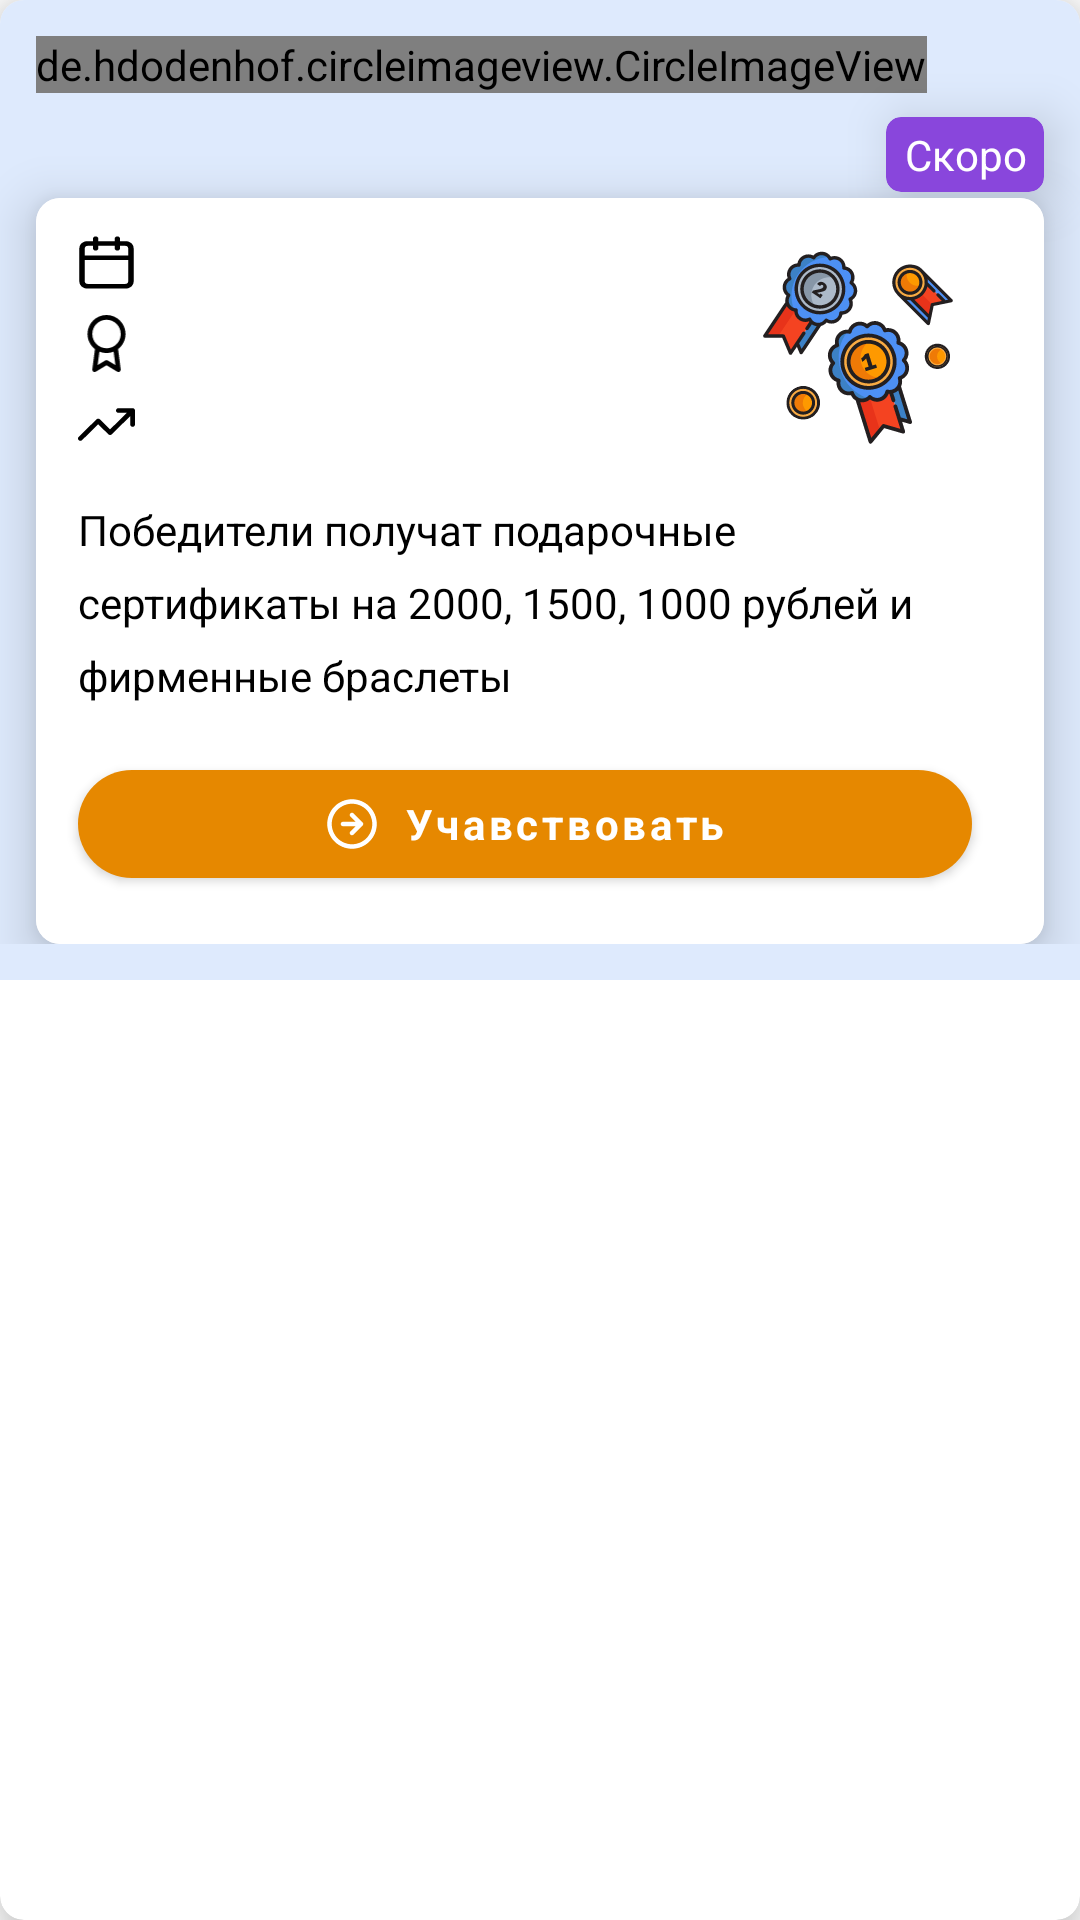

Screen size 1080×1920. Icon name, then its center in pixels as (x,y):
calendar: (106,262)
challenge: (858,347)
prize: (106,343)
statistic: (106,424)
